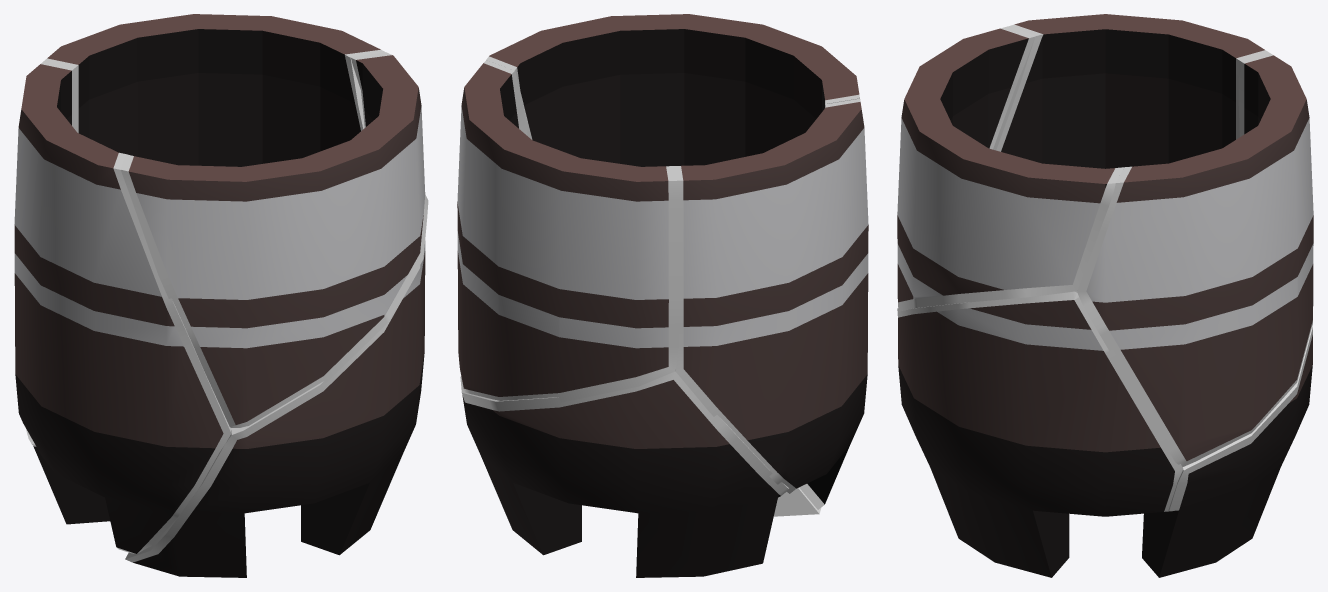
The model's file is v2_quad.fbx.
3 renders of one model, left to right at view 1: azimuth 30°, elevation 25°; view 2: azimuth 150°, elevation 25°; view 3: azimuth 270°, elevation 25°, orthographic.
Parts seen in each view (by area): view 1: shard2, shard1, shard5, shard3, gold2, gold1, gold3, shard4, gold5; view 2: shard1, shard5, shard2, shard4, gold5, gold4, gold1, gold3; view 3: shard5, shard3, shard2, shard1, shard4, gold5, gold2, gold3, gold4, gold1.
Boxes of the visible parts, x1,y1,x2,y2 form: shard2: (128,55,425,424); shard1: (14,64,223,553); shard5: (47,14,380,166); shard3: (133,241,425,577); gold2: (120,52,428,427); gold1: (41,61,231,553); gold3: (125,265,420,562); shard4: (33,446,110,524); gold5: (44,49,385,132); shard1: (681,102,868,504); shard5: (457,63,668,396); shard2: (489,14,859,166); shard4: (462,380,780,577); gold5: (464,60,678,402); gold4: (460,371,789,495); gold1: (672,98,860,509); gold3: (773,487,821,516); shard5: (1086,55,1313,460); shard3: (898,300,1174,577); shard2: (897,28,1115,302); shard1: (1001,14,1264,168); shard4: (1142,335,1312,577); gold5: (1077,53,1312,466); gold2: (898,26,1123,311); gold3: (897,291,1183,511); gold4: (1168,324,1312,511); gold1: (993,24,1269,151).
Size of the model in its own units: 8.34 by 9.18 by 8.3.
